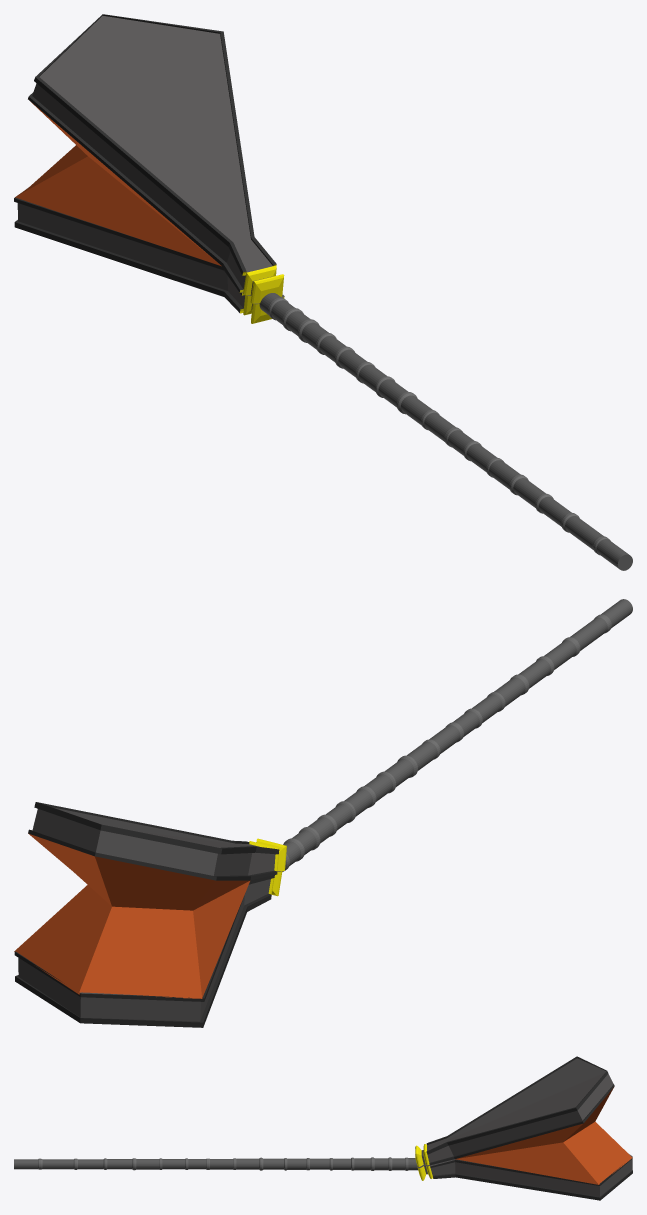
The model's file is Device for blowing.fbx.
The picture shows the model from 3 angles, top to bottom: view 1: azimuth 30°, elevation 25°; view 2: azimuth 150°, elevation 25°; view 3: azimuth 270°, elevation 25°; orthographic projection. The views are drawn at different scales.
Visible parts, largest first — view 1: Up, Cylinder, Bottom; view 2: Up, Cylinder, Bottom; view 3: Up, Cylinder, Bottom.
Part boxes in pixels (x1,y1,x2,y2): Up: (15,14,284,303); Cylinder: (259,293,632,570); Bottom: (14,188,284,323); Up: (14,802,286,998); Cylinder: (282,599,632,871); Bottom: (14,871,282,1027); Up: (415,1056,632,1184); Cylinder: (14,1157,417,1170); Bottom: (417,1154,632,1200).
Bounding box in the file's own units: 717 × 673 × 3557.
